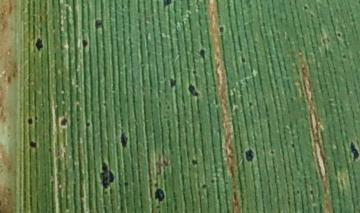tarspot: (96, 158, 116, 192), (151, 180, 166, 204), (347, 139, 360, 164), (186, 79, 201, 99), (242, 147, 256, 164), (26, 137, 41, 152), (119, 128, 129, 150), (33, 36, 45, 54), (93, 17, 106, 32), (57, 113, 69, 129), (79, 36, 90, 51), (197, 46, 207, 62), (168, 76, 178, 90), (205, 175, 218, 185), (25, 115, 35, 128), (189, 156, 199, 167), (161, 1, 174, 9), (333, 29, 343, 39), (199, 180, 208, 191), (83, 120, 94, 129), (301, 3, 310, 12), (308, 187, 316, 197), (218, 25, 226, 35), (240, 54, 247, 65), (267, 148, 276, 156), (341, 52, 348, 62), (289, 142, 297, 150)
